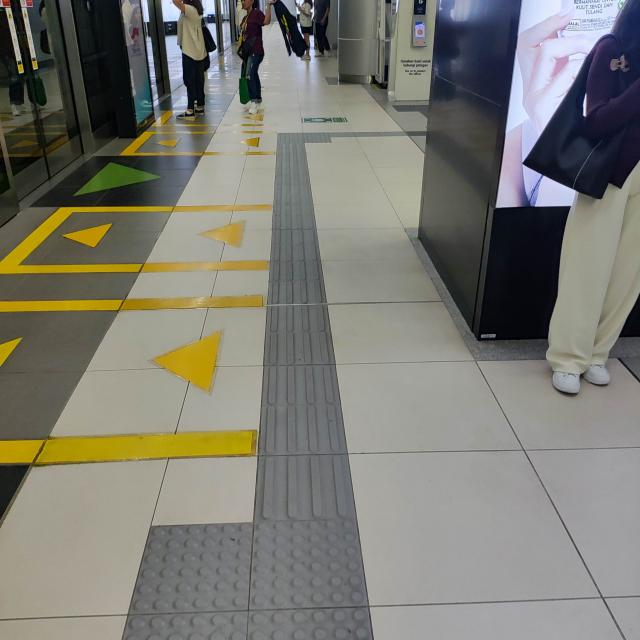kanan: (264, 120, 370, 158)
